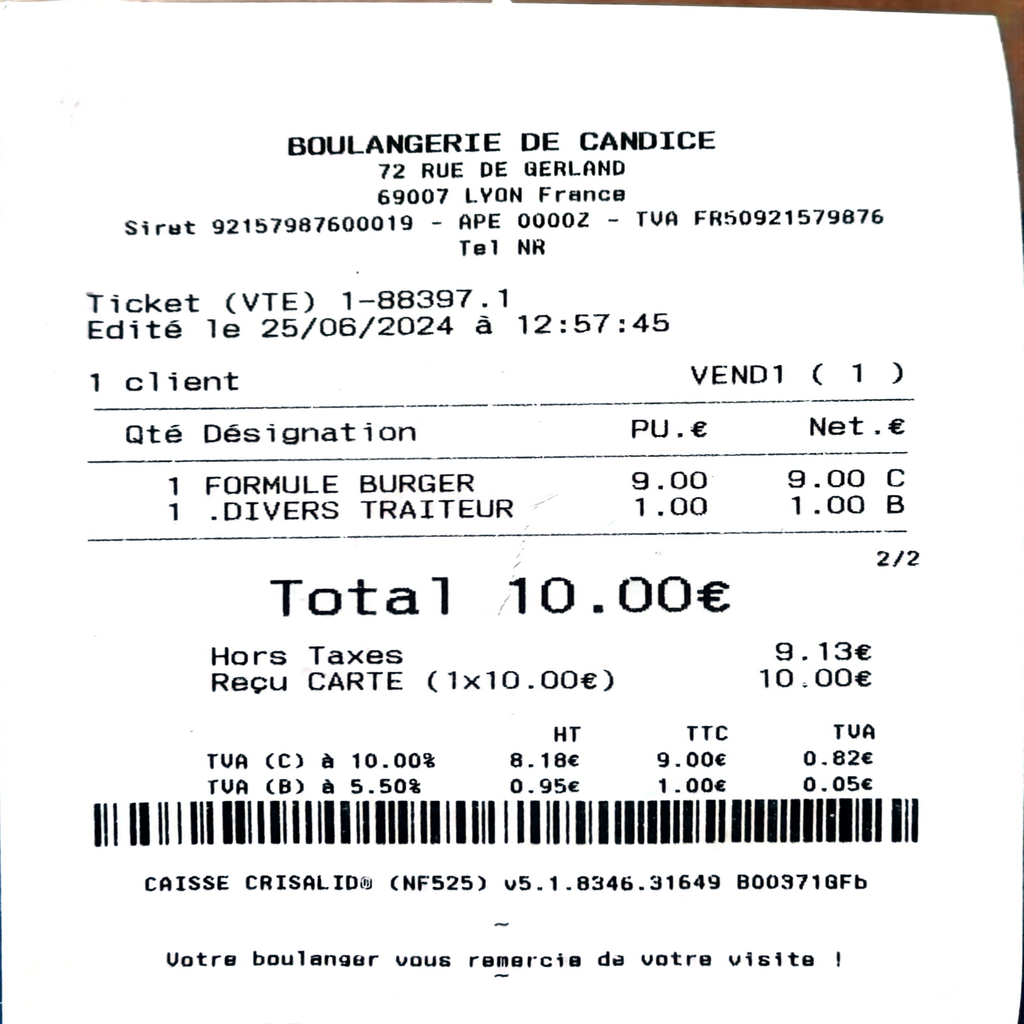recipt: (21, 15, 1014, 993)
